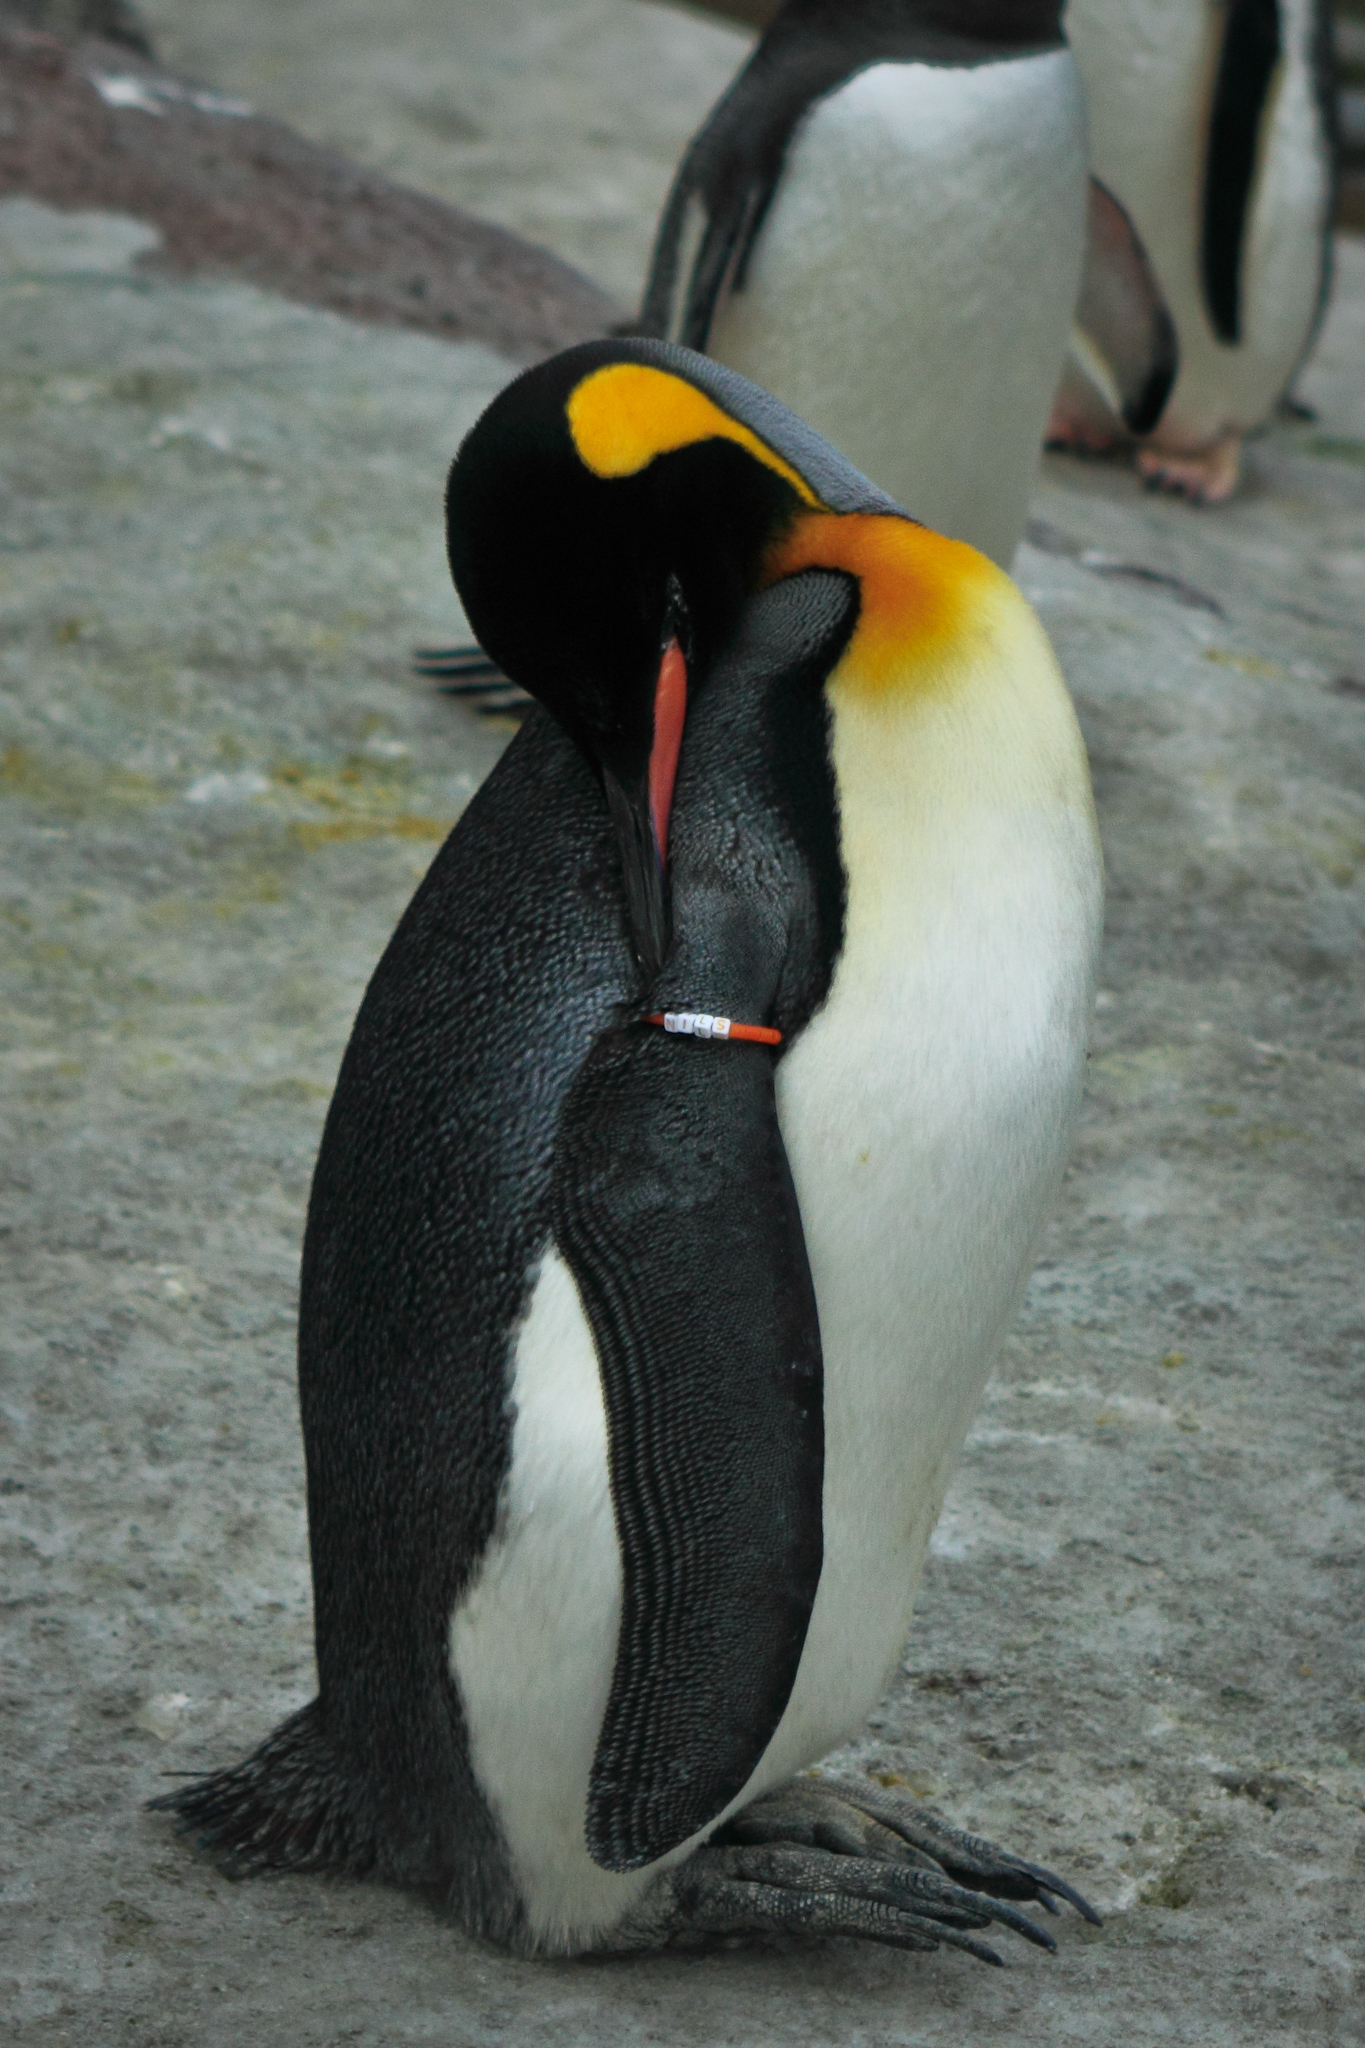penguin: (192, 346, 1117, 1960)
